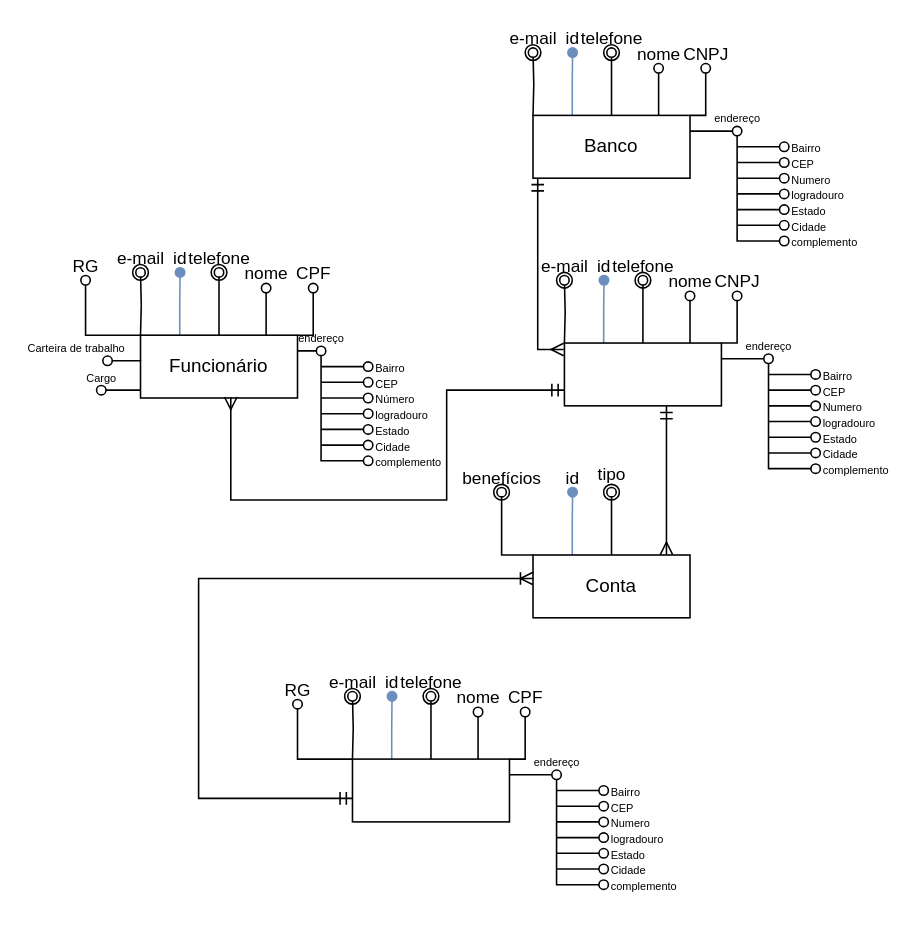
This 915x925 diagram has some shape labels left out. Each missing label, with the centre of its shape:
"Agência" goes at (x=642, y=373).
"Cliente" goes at (x=430, y=790).
